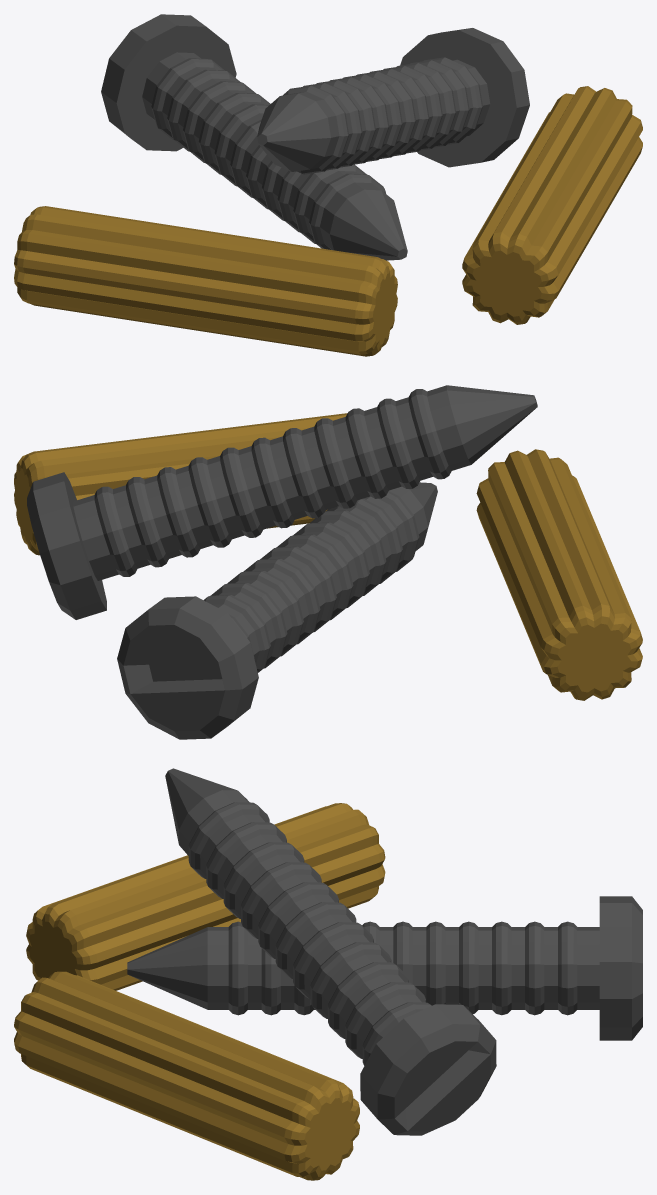
The model's file is ScrewsNDowles.fbx.
The picture shows the model from 3 angles, top to bottom: view 1: azimuth 30°, elevation 25°; view 2: azimuth 150°, elevation 25°; view 3: azimuth 270°, elevation 25°; orthographic projection. The views are drawn at different scales.
Visible parts, largest first — view 1: Cylinder.001; view 2: Cylinder.001; view 3: Cylinder.001.
Boxes of the visible parts, box(x1,y1,x2,y2) form: Cylinder.001: box(14, 14, 642, 356); Cylinder.001: box(14, 385, 642, 739); Cylinder.001: box(14, 768, 642, 1180).
Bounding box in the file's own units: 204 × 65.17 × 174.
